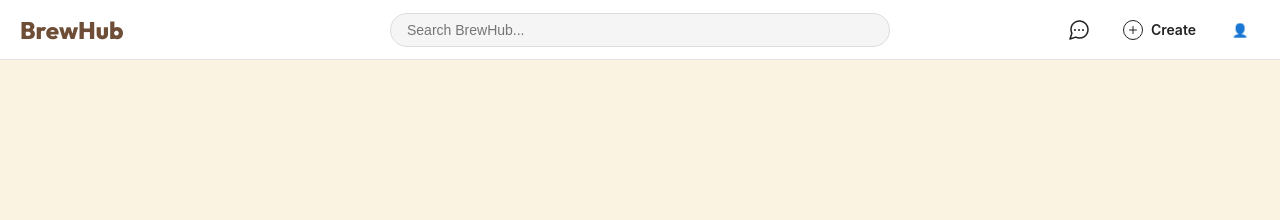
Header Component › dovrebbe mostrare bottone Logout quando loggato
# Clicca sul bottone del profilo per aprire il dropdown
Click the button named "Profile Menu". click: click(1240, 30)
box: [1220,10,1260,50]
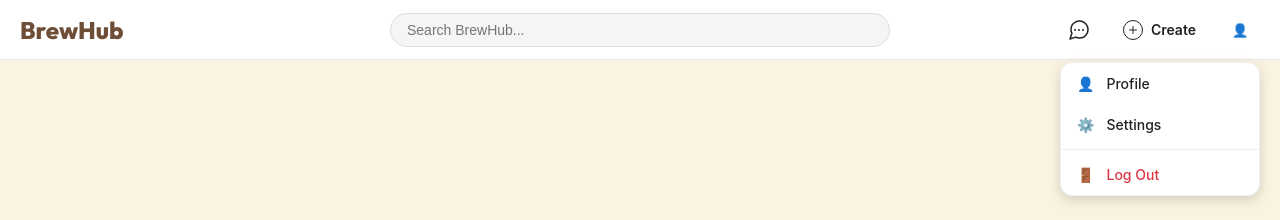
Expected: the button "🚪 Log Out" is shown, [1061,154,1259,194]
